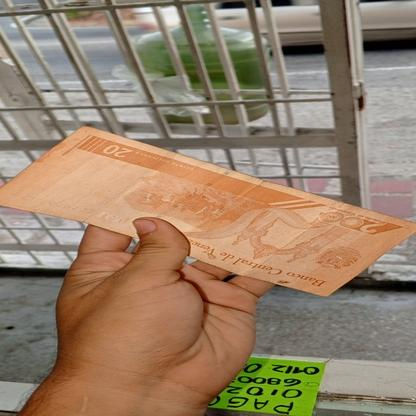twenty-back-vef: (0, 126, 415, 296)
